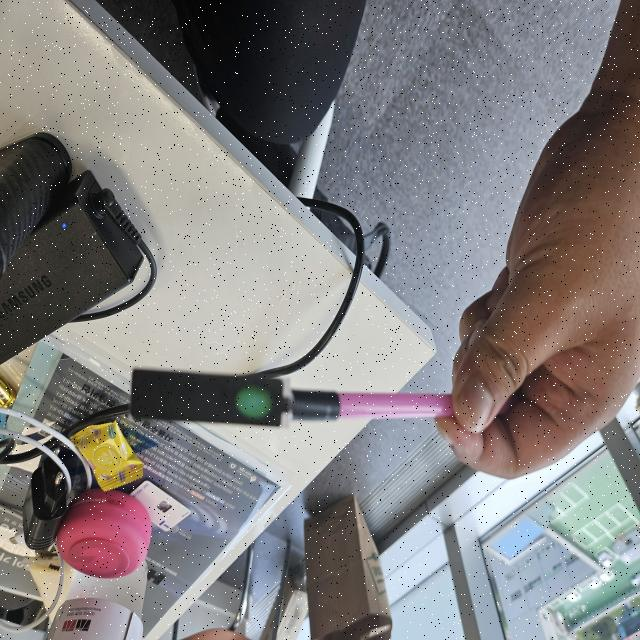traffic light: (134, 371, 290, 430)
